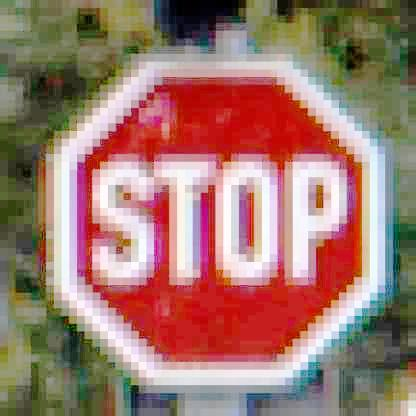Stop Sign: (50, 53, 394, 387)
